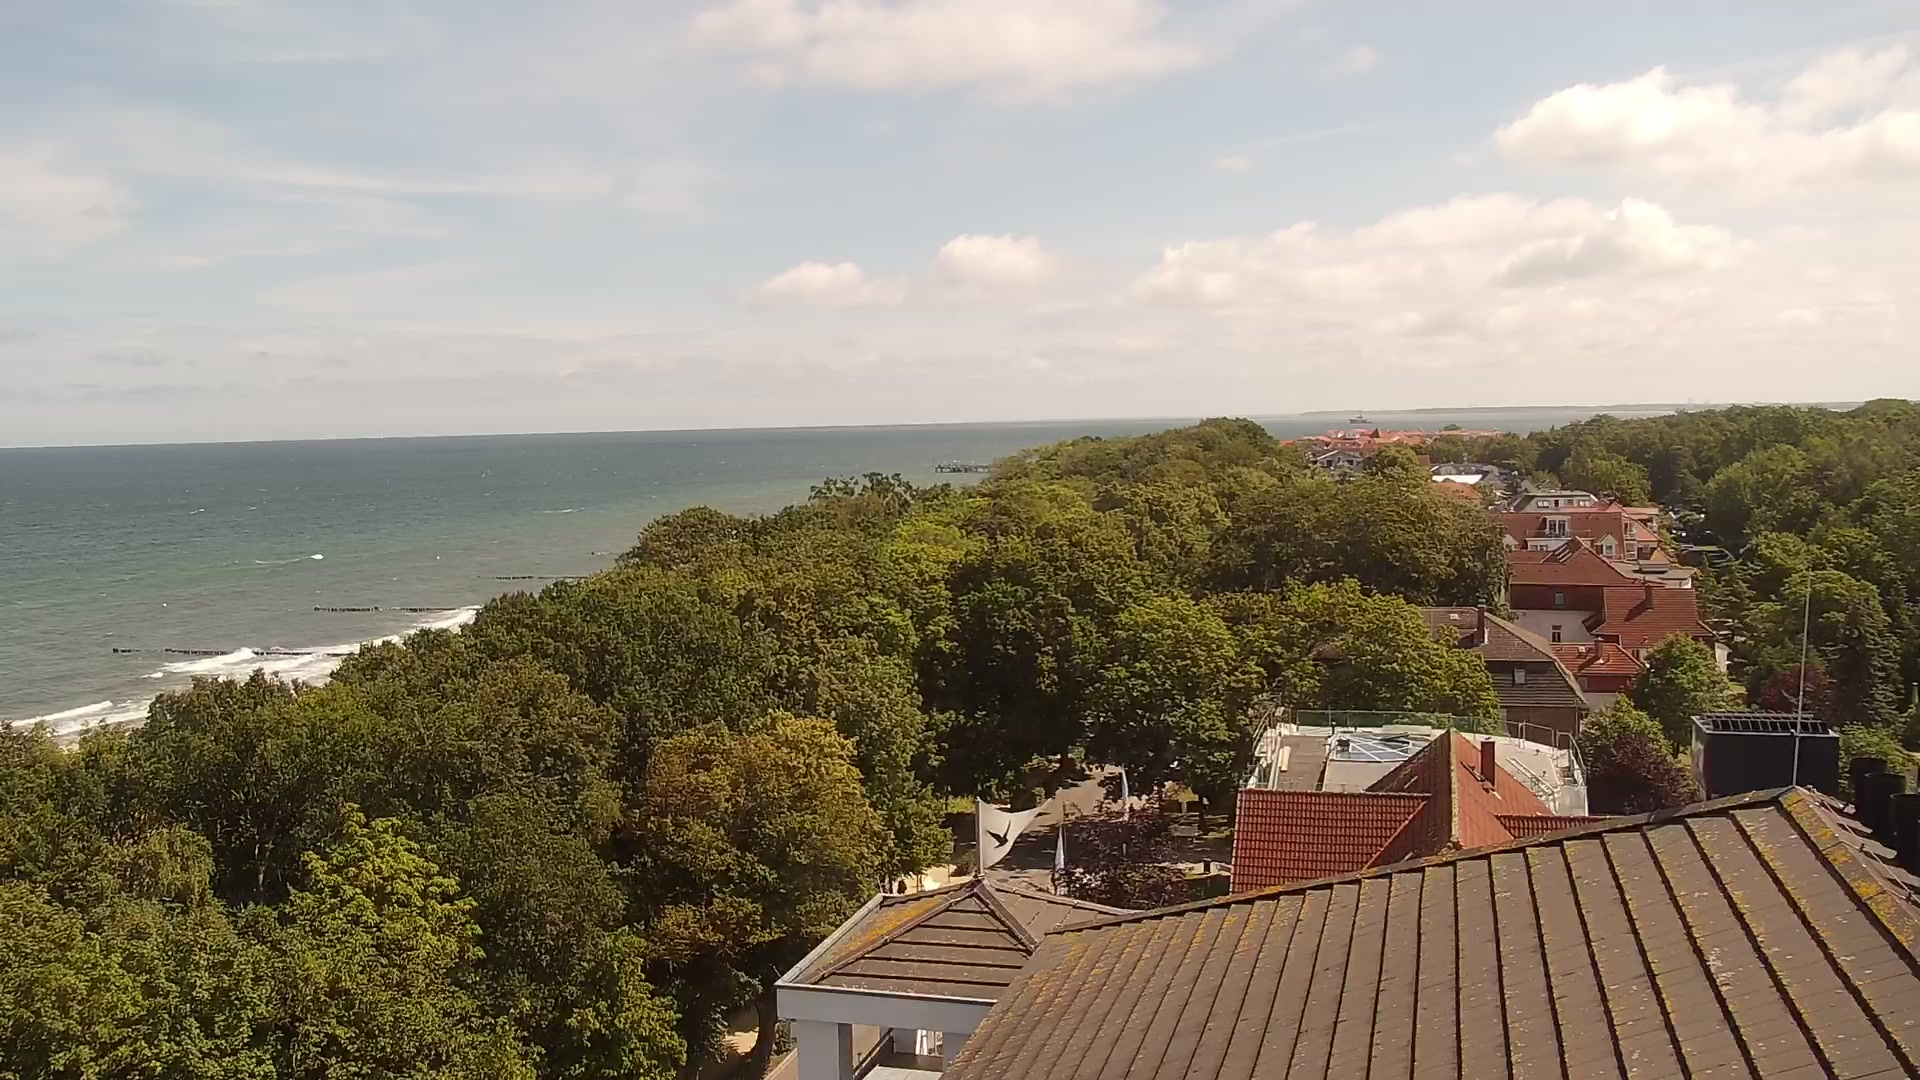sea: (1346, 411, 1370, 425)
